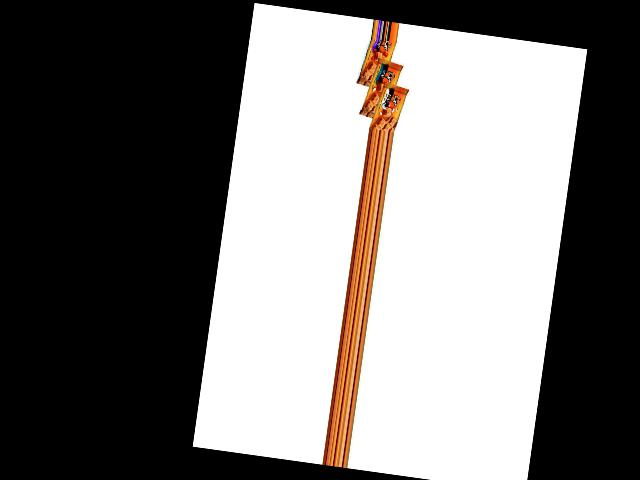chocolate: (358, 37, 397, 94)
